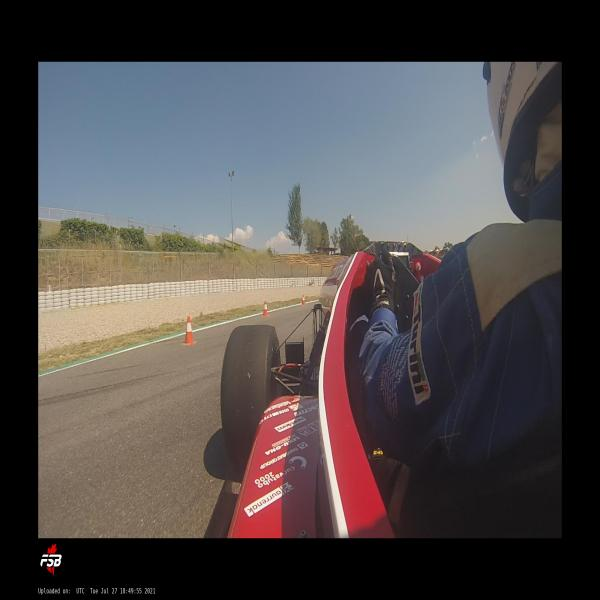orange_cone: (182, 316, 197, 345), (262, 301, 269, 316), (302, 295, 305, 305)
